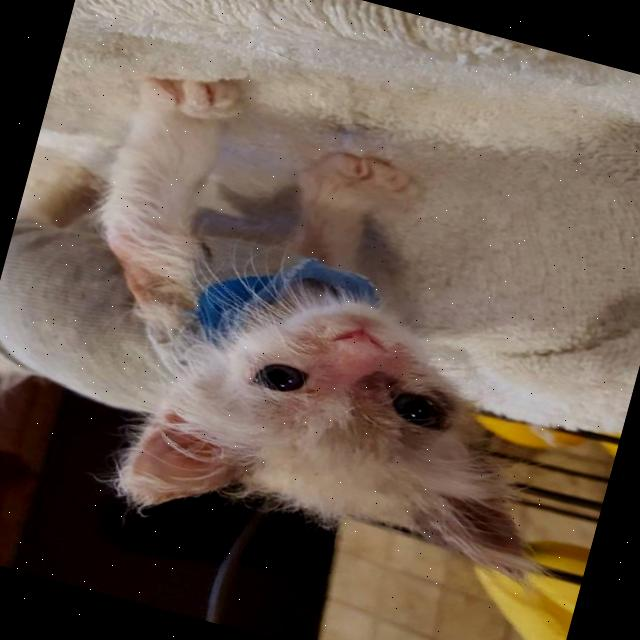cat-scabies: (338, 371, 393, 451)
